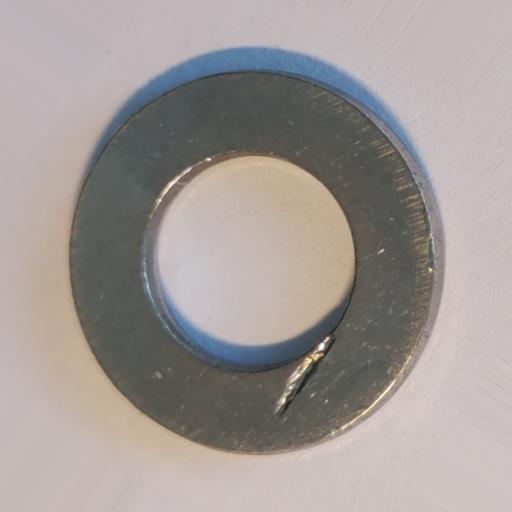scratch: (272, 331, 339, 418)
